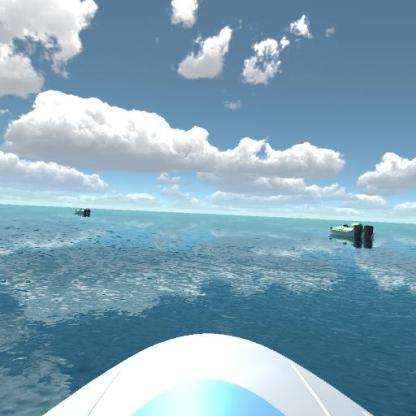usv0: (330, 219, 378, 250), (72, 203, 95, 221)
